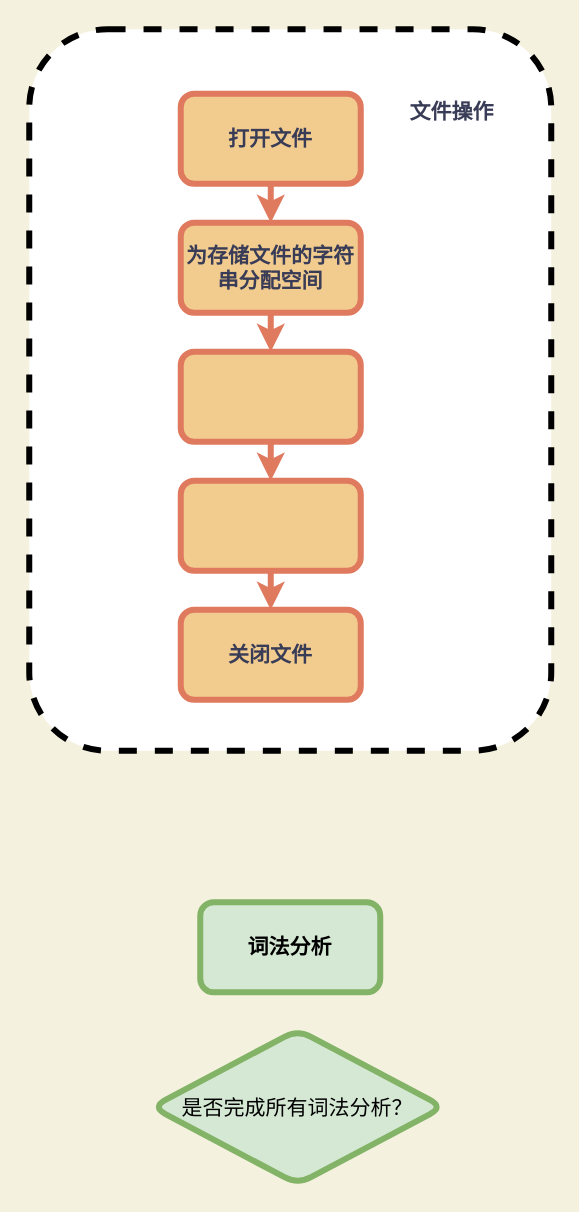
The diagram is 579 pixels wide and 1212 high, and some of its shapes have lost their labels. The centre of each missing label's shape, as x and y in pixels:
"在最后放一个EOF符号代表文字结束" belongs at point (270, 525).
"读取文件放到分配的空间中" belongs at point (270, 396).
